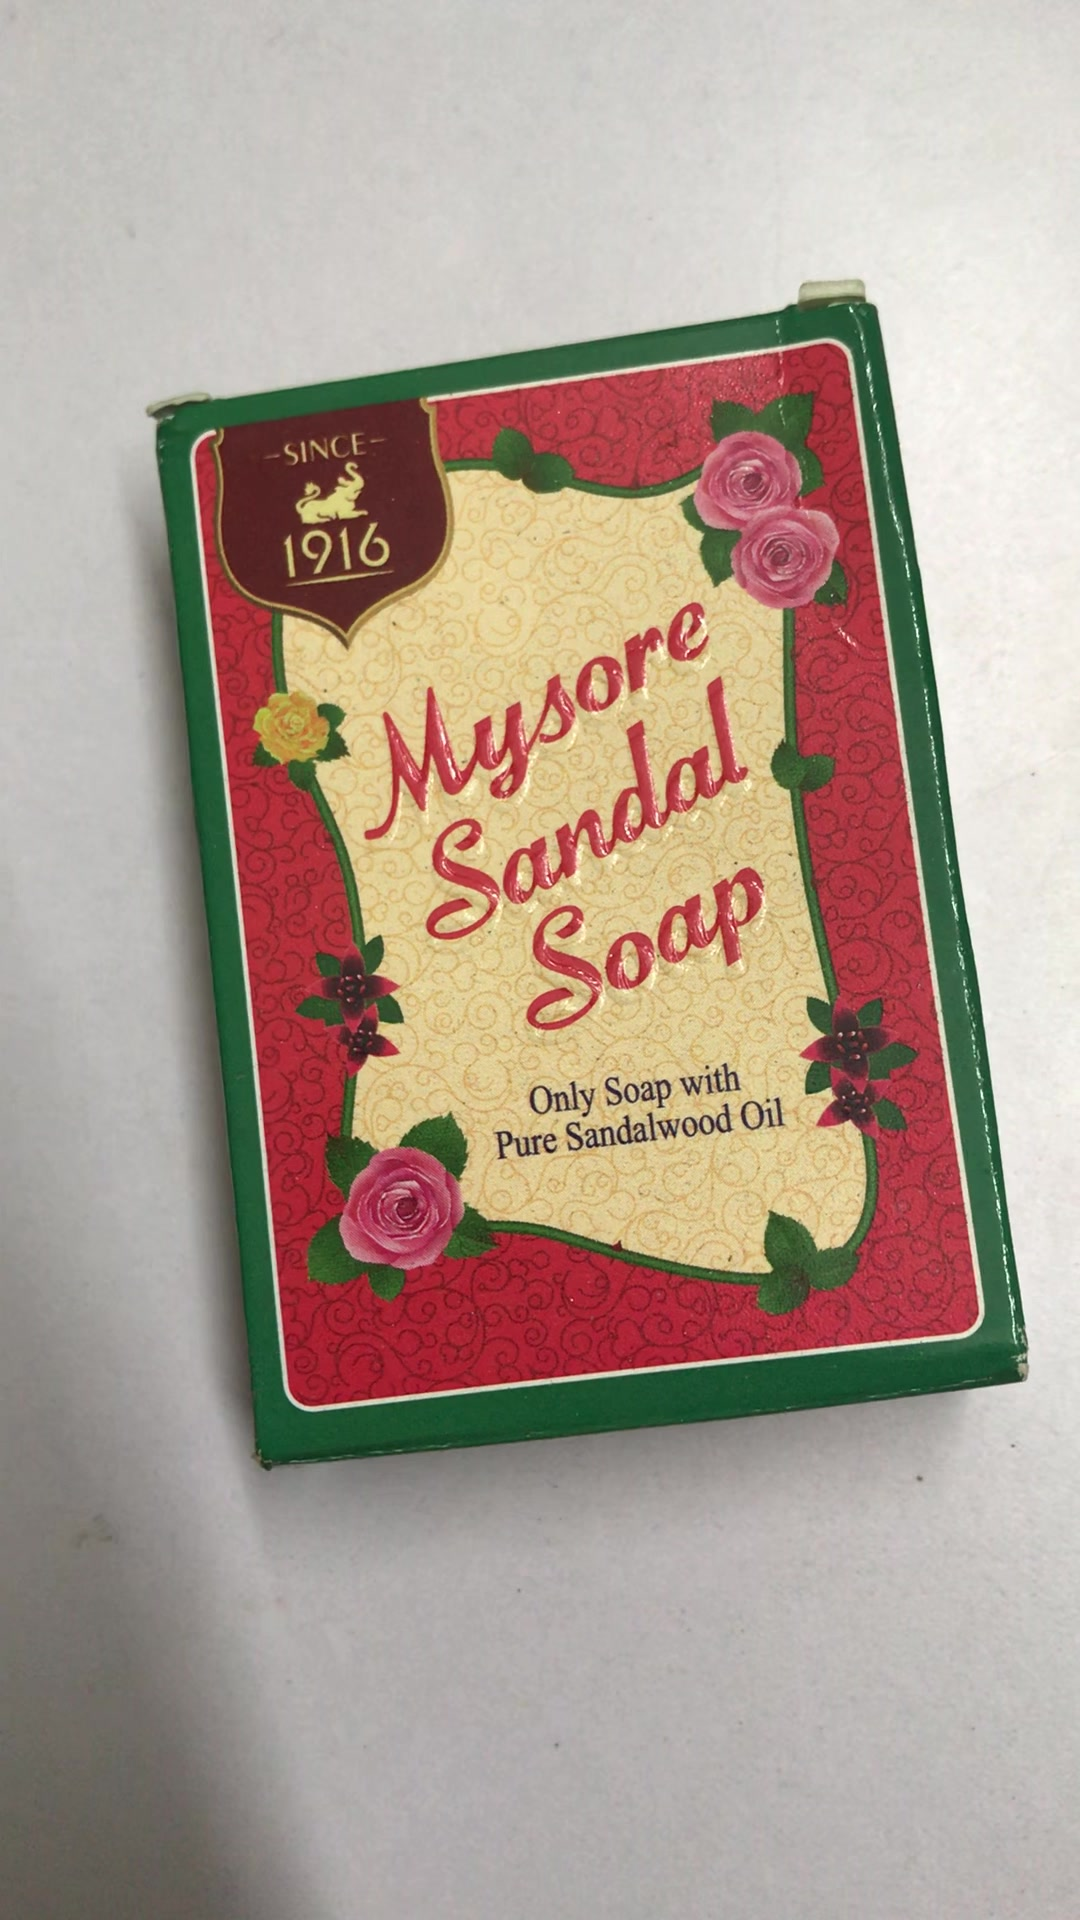mysore sandal soap: (156, 294, 1022, 1469)
